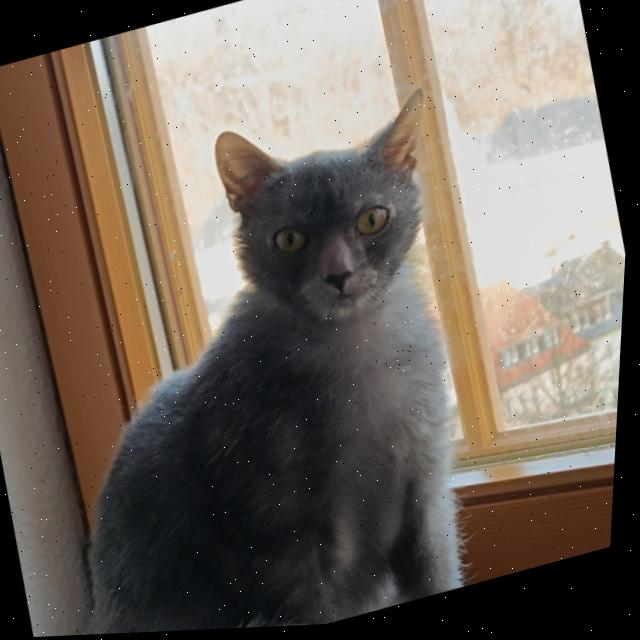Lykoi: (0, 69, 539, 640)
